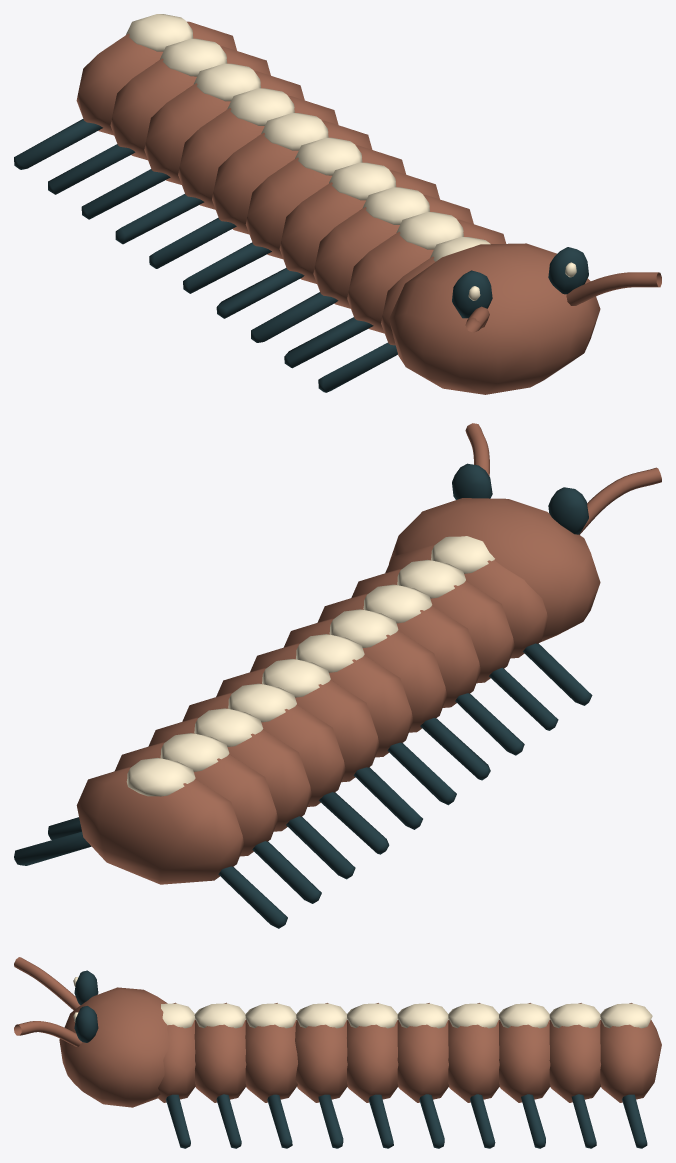
File: org_arthropleura.glb
3 renders of one model, top to bottom at view 1: azimuth 30°, elevation 25°; view 2: azimuth 150°, elevation 25°; view 3: azimuth 270°, elevation 25°, orthographic. The views are drawn at different scales.
Parts seen in each view (by area): view 1: Body, Head, Eye_R, Eye_L; view 2: Body, Head, Eye_L, Eye_R; view 3: Body, Head, Eye_R, Eye_L.
Boxes of the visible parts, x1,y1,x2,y2 form: Body: (14, 14, 506, 392); Head: (389, 243, 661, 394); Eye_R: (548, 247, 588, 294); Eye_L: (452, 270, 492, 318); Body: (14, 536, 592, 928); Head: (389, 423, 661, 642); Eye_L: (548, 487, 588, 534); Eye_R: (452, 463, 492, 499); Body: (157, 1002, 661, 1148); Head: (14, 957, 169, 1107); Eye_R: (73, 1006, 98, 1042); Eye_L: (73, 970, 98, 1005).
Bounding box in the file's own units: 0.9081 × 0.48 × 2.51.
